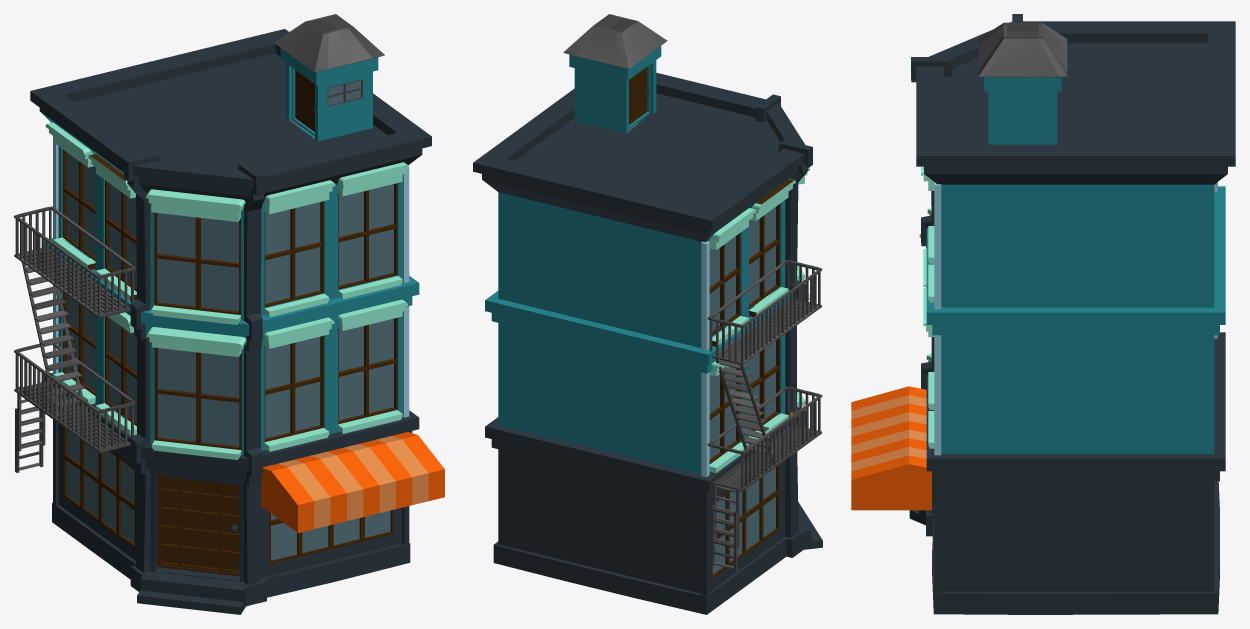
The model's file is Corner_Building_Blue.fbx.
The picture shows the model from 3 angles, left to right: view 1: azimuth 30°, elevation 25°; view 2: azimuth 150°, elevation 25°; view 3: azimuth 270°, elevation 25°; orthographic projection. The views are drawn at different scales.
Visible parts, largest first — view 1: Cube.007; view 2: Cube.007; view 3: Cube.007.
Boxes of the visible parts, bbox=[...] form: Cube.007: bbox=[14, 14, 444, 614]; Cube.007: bbox=[473, 14, 822, 614]; Cube.007: bbox=[851, 14, 1235, 614].
Size of the model in its own units: 1669 by 1522 by 2694.
